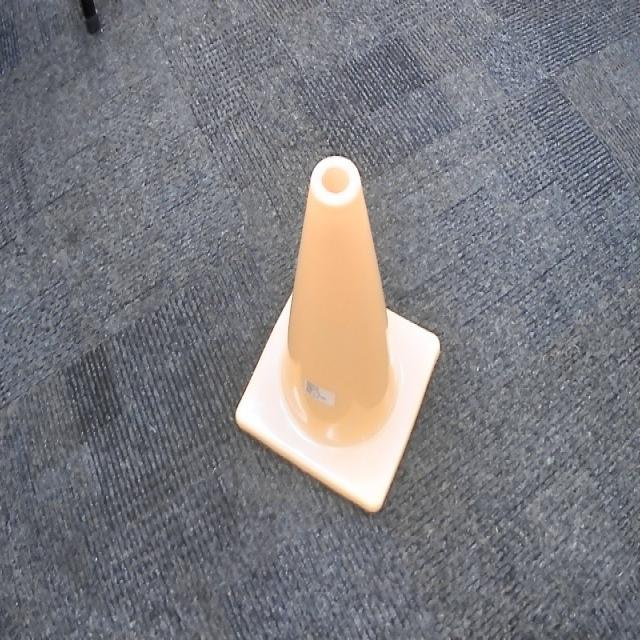cone: (234, 156, 442, 514)
